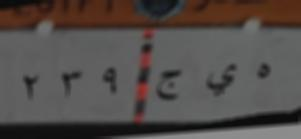2: (20, 69, 42, 104)
3: (57, 66, 88, 102)
9: (98, 62, 128, 102)
haa: (252, 56, 273, 92)
jeem: (154, 65, 188, 108)
yaa: (205, 54, 242, 102)
